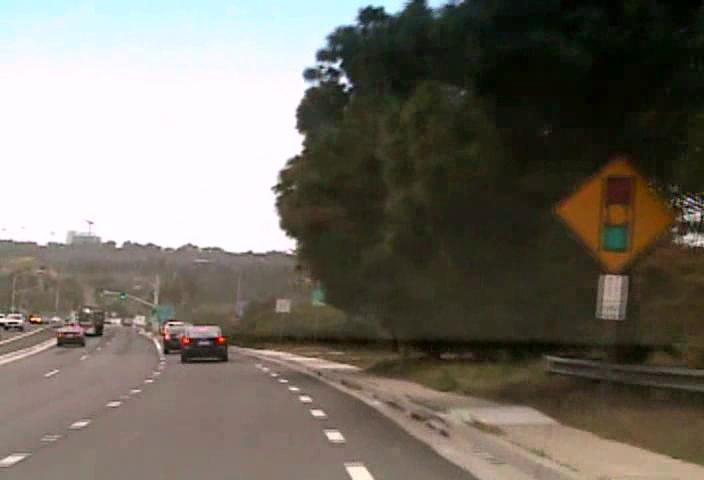signalAhead: (553, 154, 676, 275)
